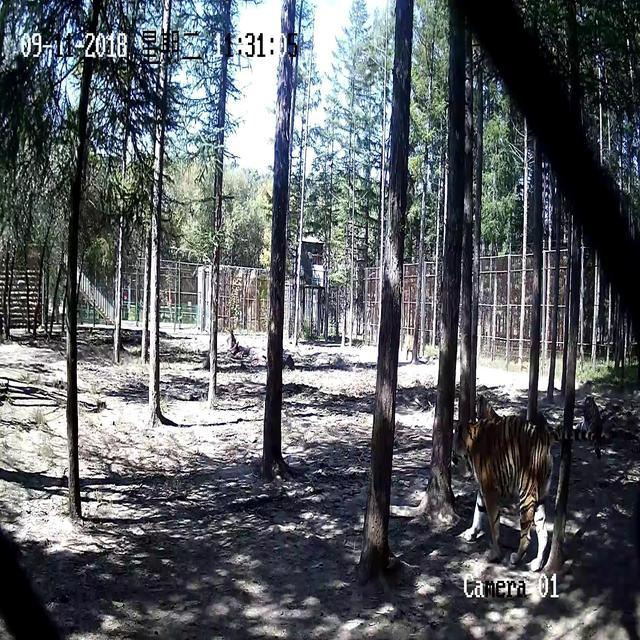tiger: (451, 398, 558, 570), (579, 394, 604, 458), (226, 329, 251, 358)
